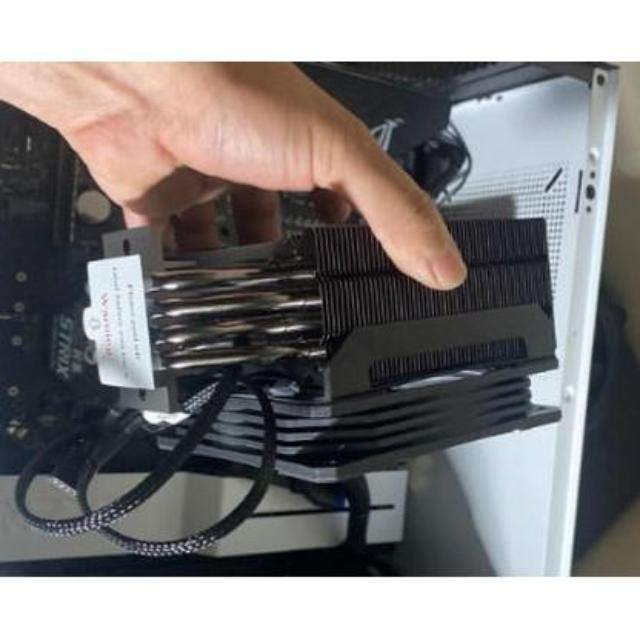CPU_Fan: (75, 160, 567, 488)
